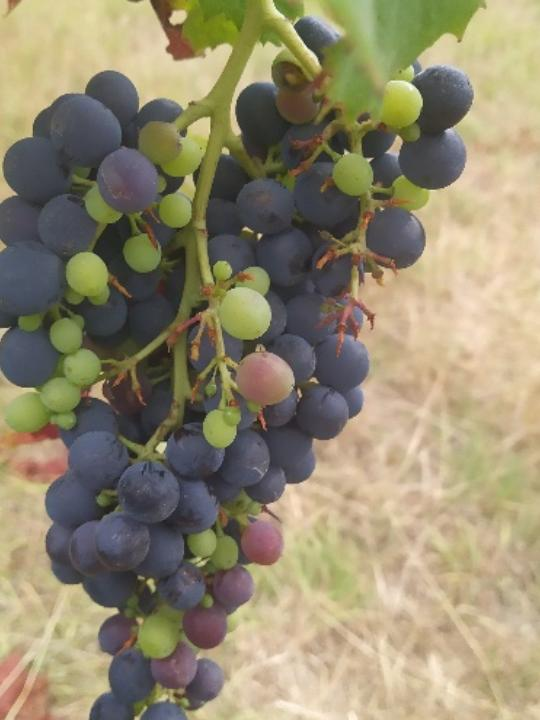grape: (0, 9, 478, 720)
